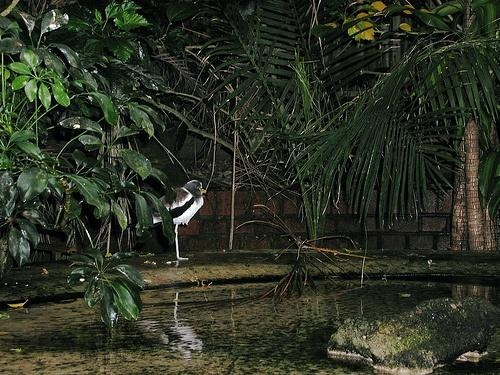bird: (151, 180, 208, 262)
